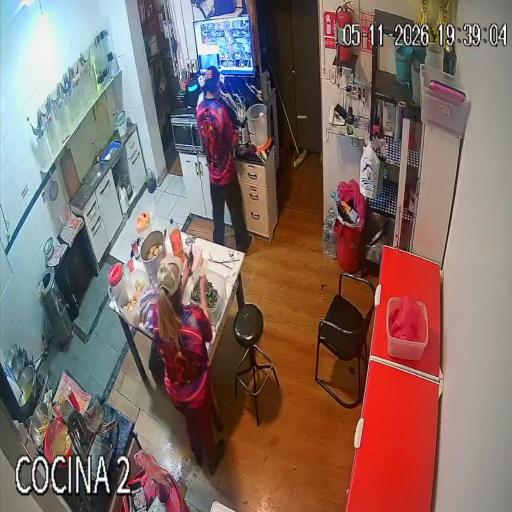Envase Ketchup: (66, 389, 79, 411)
Envase Llajua: (59, 395, 66, 406)
Jarra1: (108, 263, 125, 300)
Jarra2: (136, 211, 154, 244)
Microondas: (171, 114, 203, 154)
Persona1: (196, 66, 253, 252)
Persona2: (153, 255, 225, 474)
Tapa de olla: (43, 237, 54, 262)
Taper2: (186, 266, 226, 325)
Taper4: (116, 270, 149, 326)
olla: (139, 230, 166, 277)
